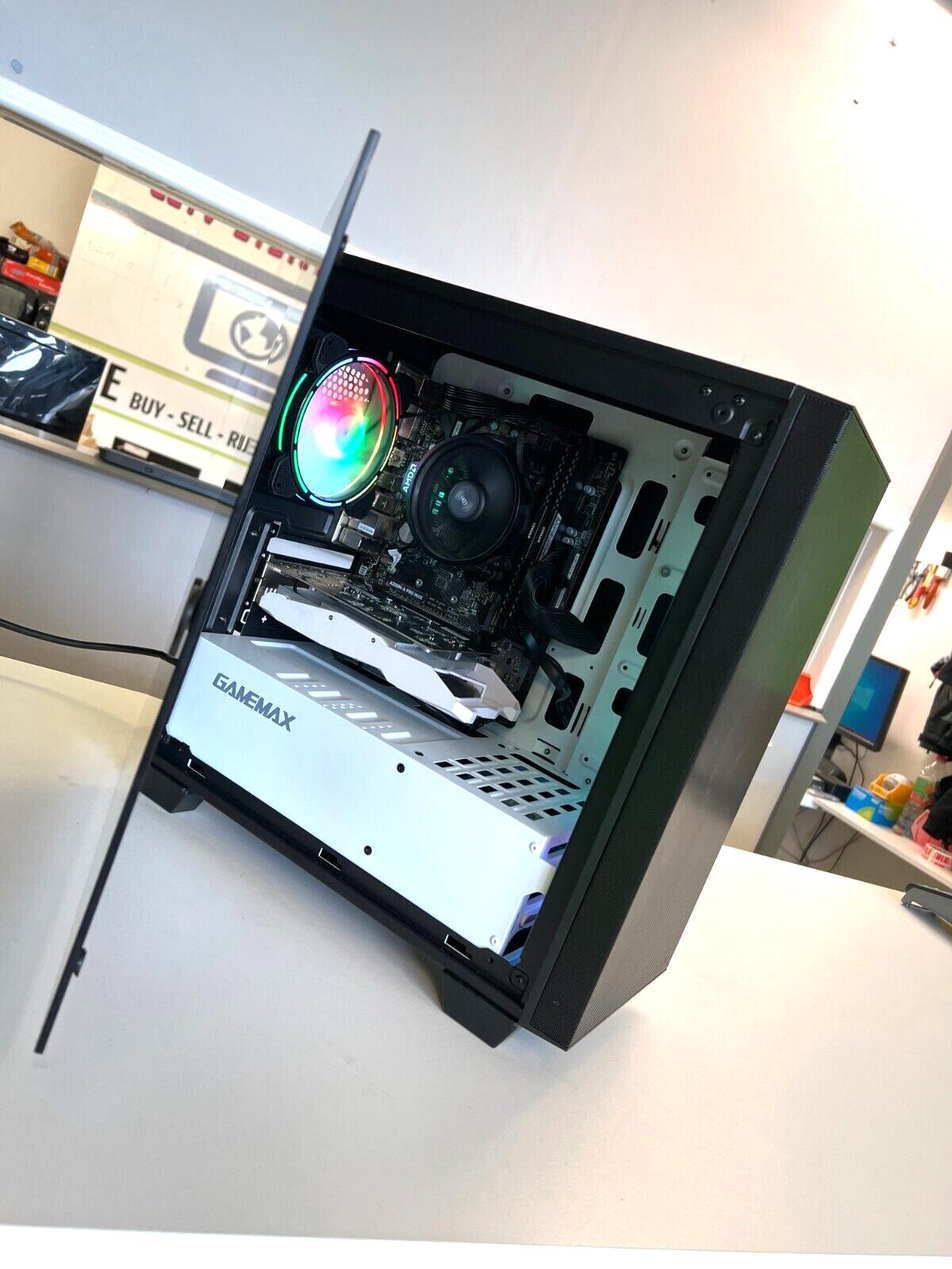computer_tower: (135, 228, 872, 1049)
